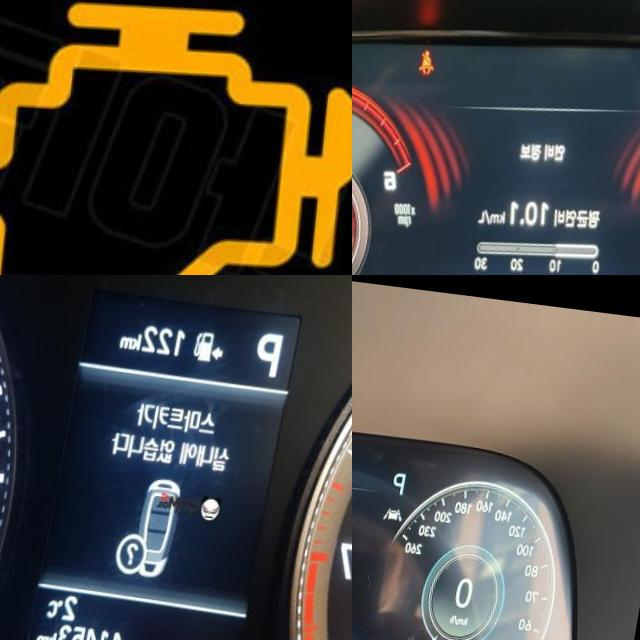LaneCenteringOff: (392, 496, 412, 511)
